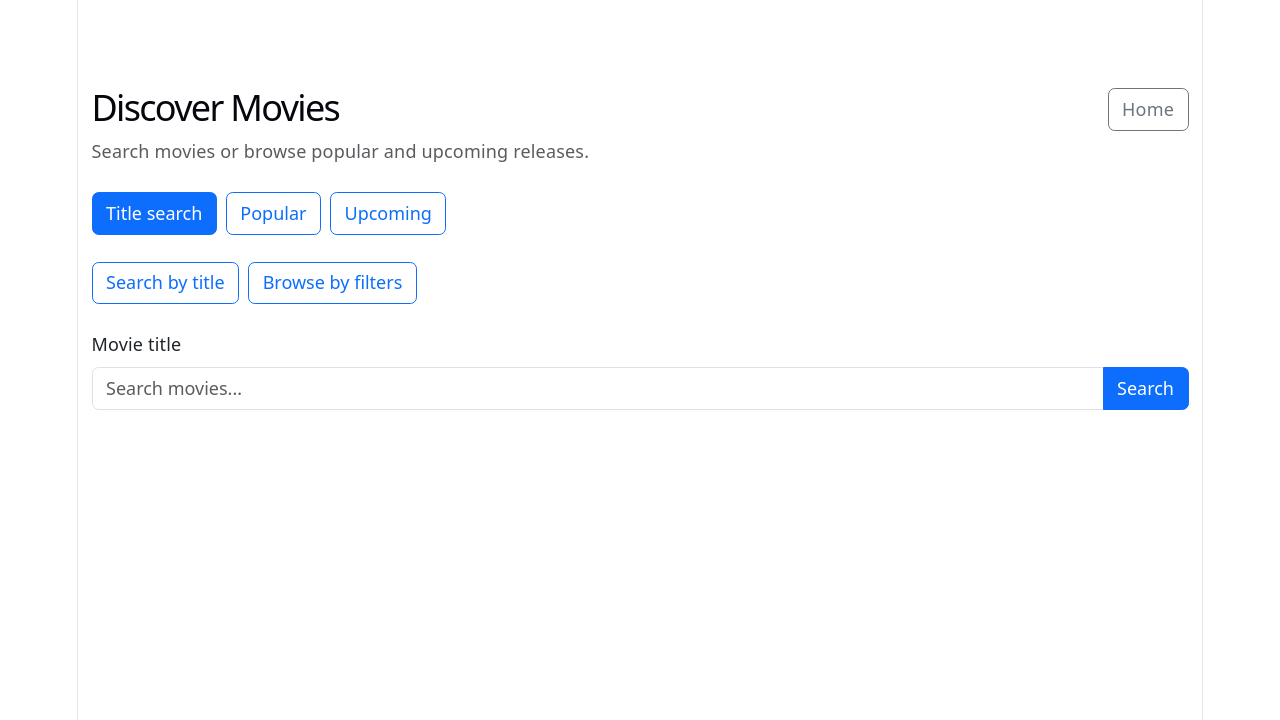
it: filtered movie discovery › keeps title search available alongside filtered browsing
The width and height of the screenshot is (1280, 720).
Expected: the search field labelled "Movie title" is shown, [92,367,1104,410]
Click the button "Browse by filters": x=333, y=283 [248,262,417,304]
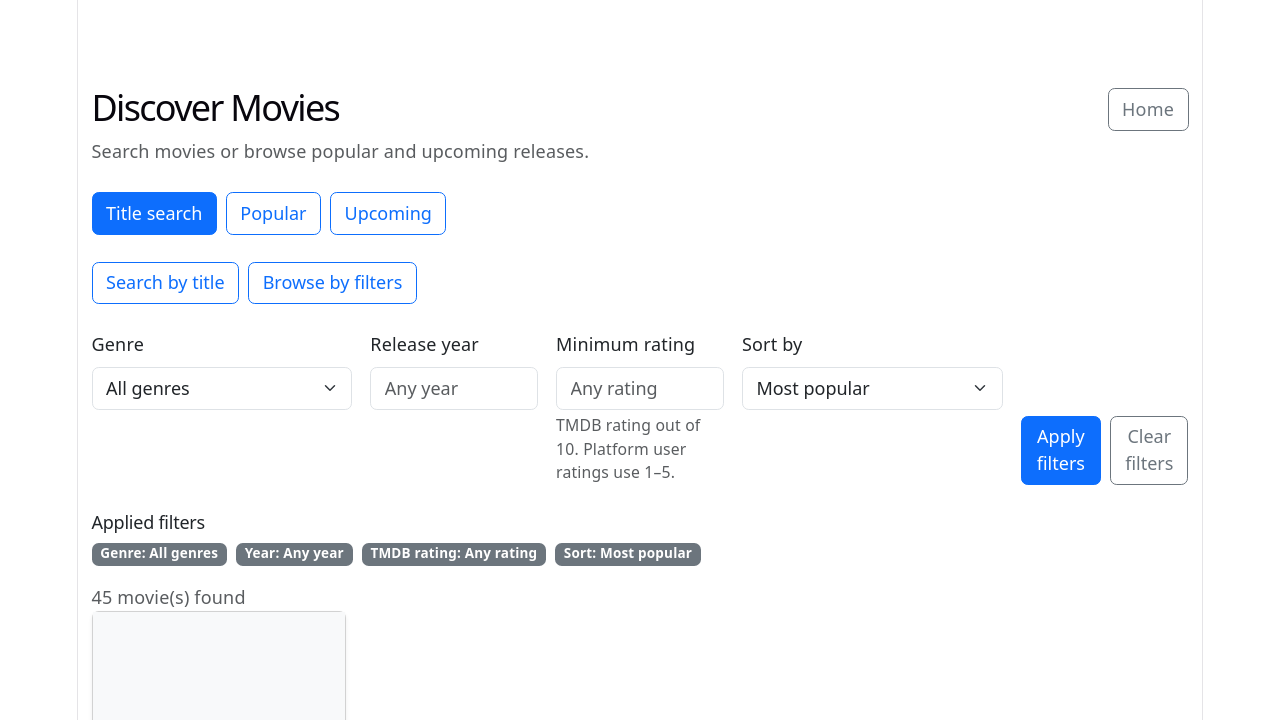
Expected: the label "Movie title" is gone
Click the button "Search by title": x=165, y=283 [92,262,239,304]
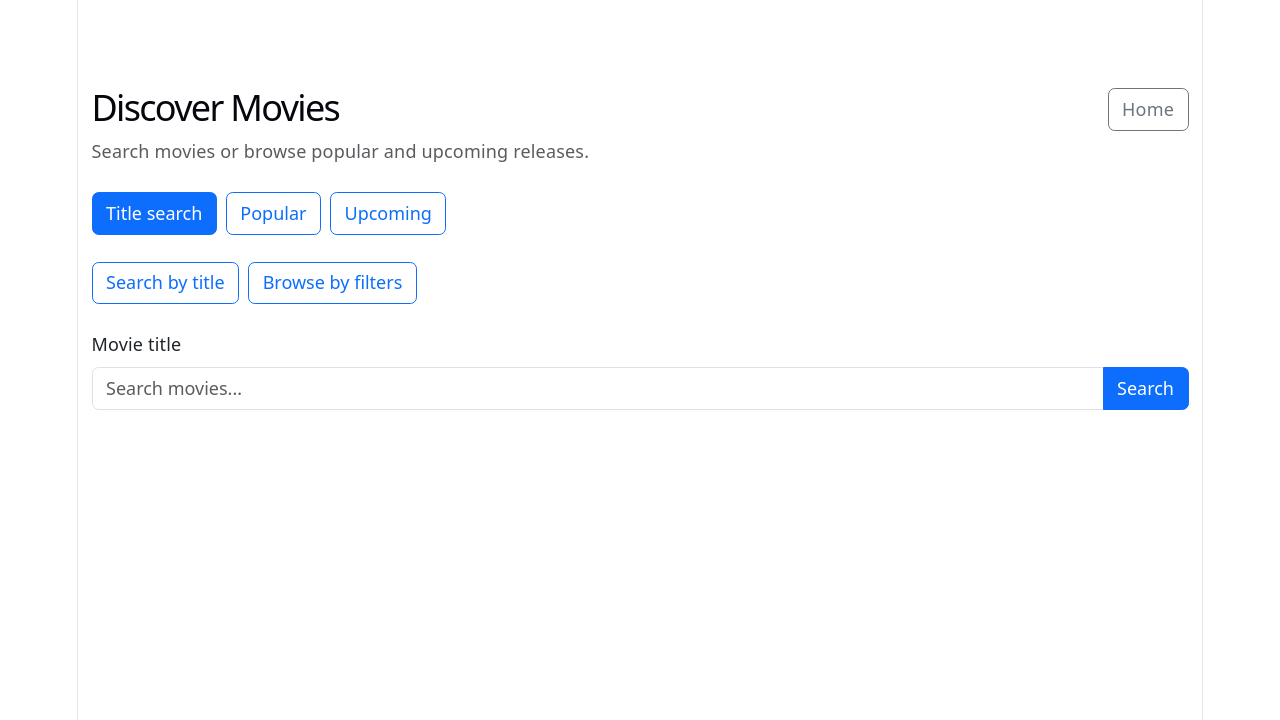
Expected: the search field labelled "Movie title" is shown, [92,367,1104,410]
